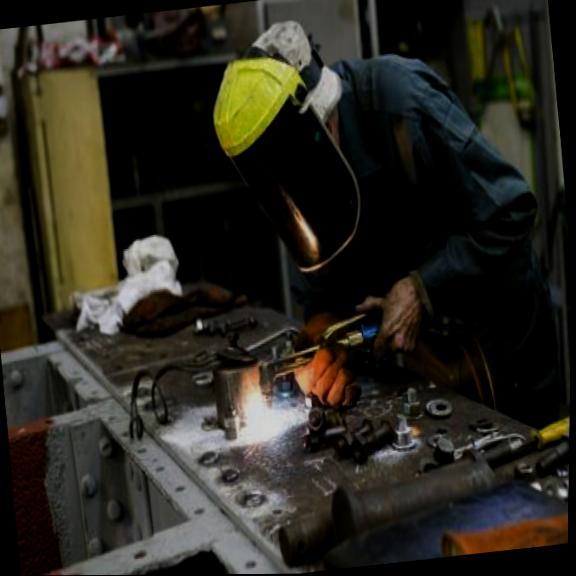no_safety_vest: (300, 42, 533, 340)
